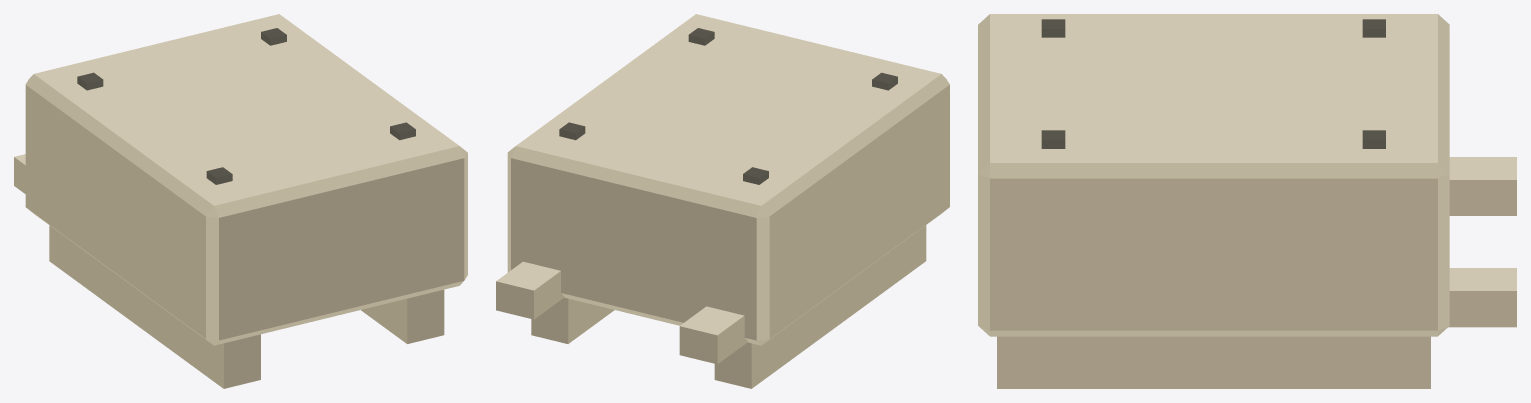
File: ERA_M6_TURRET_L_03.glb
3 renders of one model, left to right at view 1: azimuth 30°, elevation 25°; view 2: azimuth 150°, elevation 25°; view 3: azimuth 270°, elevation 25°, orthographic. The views are drawn at different scales.
Parts seen in each view (by area): view 1: ERA_M6_TURRET_L_03.001; view 2: ERA_M6_TURRET_L_03.001; view 3: ERA_M6_TURRET_L_03.001.
Part boxes in pixels (box(x1,y1,x2,y2)): ERA_M6_TURRET_L_03.001: box(14, 14, 467, 388); ERA_M6_TURRET_L_03.001: box(496, 14, 949, 388); ERA_M6_TURRET_L_03.001: box(978, 14, 1516, 388).
Size of the model in its own units: 0.255 by 0.1815 by 0.3655.
